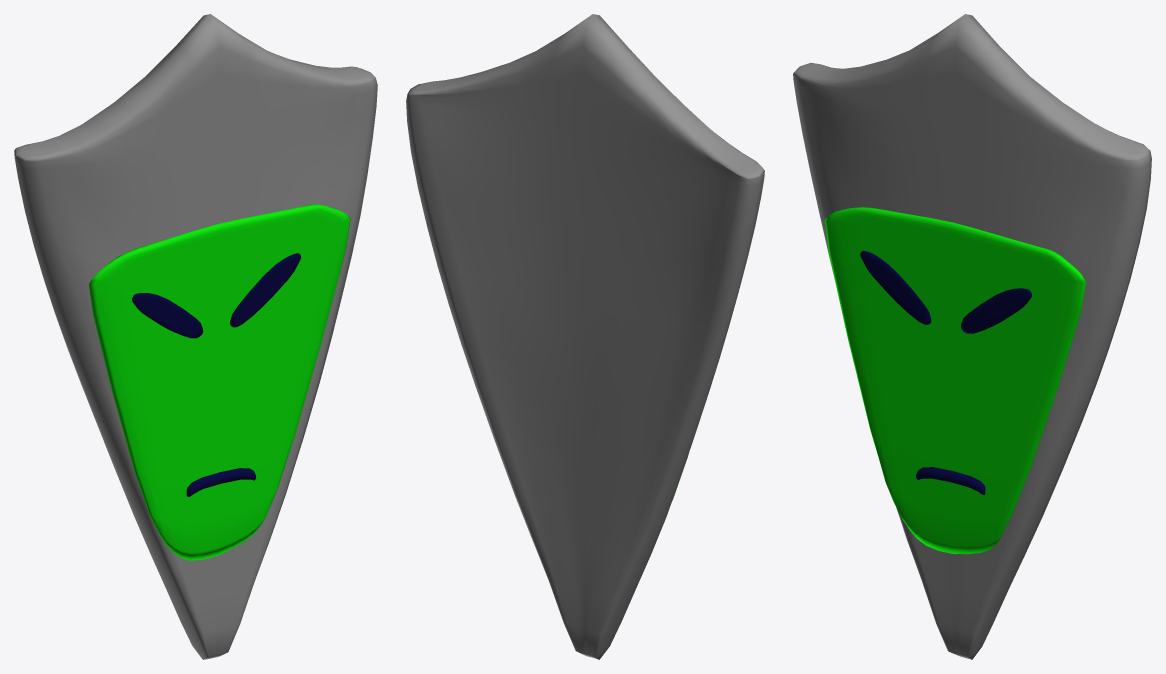
Rendered from shieldProp.fbx.
3 renders of one model, left to right at view 1: azimuth 30°, elevation 25°; view 2: azimuth 150°, elevation 25°; view 3: azimuth 330°, elevation 25°, orthographic.
Visible parts, largest first — view 1: pCube11; view 2: pCube11; view 3: pCube11.
Boxes of the visible parts, x1,y1,x2,y2 form: pCube11: (14,14,377,659); pCube11: (406,14,764,659); pCube11: (793,14,1151,659).
Size of the model in its own units: 10.02 by 17.43 by 1.71.
